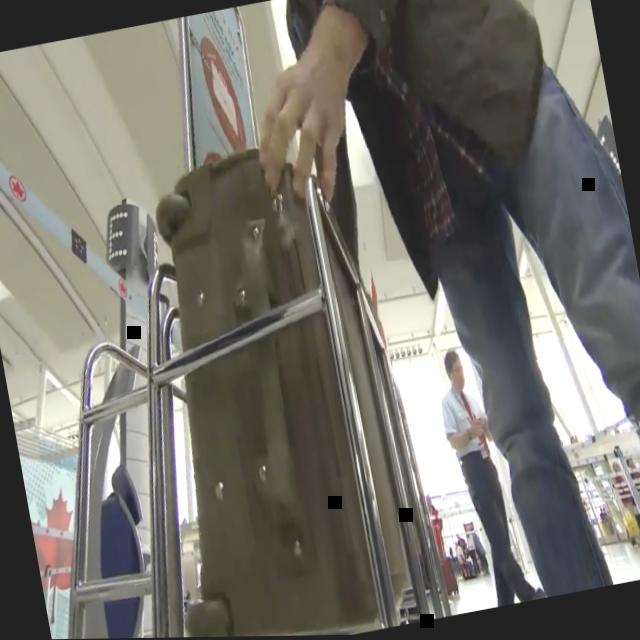luggage: (103, 119, 440, 639), (438, 556, 459, 600), (459, 561, 471, 583), (466, 560, 477, 581)
